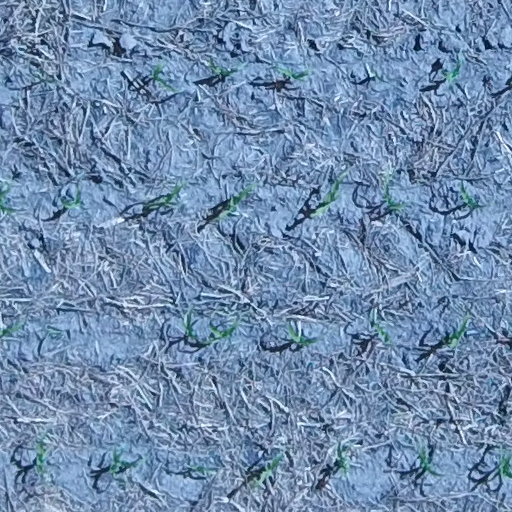planta: (309, 171, 348, 220), (214, 181, 258, 223), (252, 450, 286, 490), (147, 179, 188, 211), (201, 317, 242, 347), (380, 171, 407, 215), (148, 60, 180, 95), (105, 447, 140, 478), (443, 314, 471, 350), (284, 322, 320, 349), (368, 311, 394, 346), (31, 432, 51, 477), (439, 55, 467, 85), (416, 443, 439, 479), (273, 63, 313, 83), (206, 58, 243, 79), (457, 183, 482, 212), (334, 442, 353, 479), (58, 186, 85, 212), (179, 307, 198, 341)
